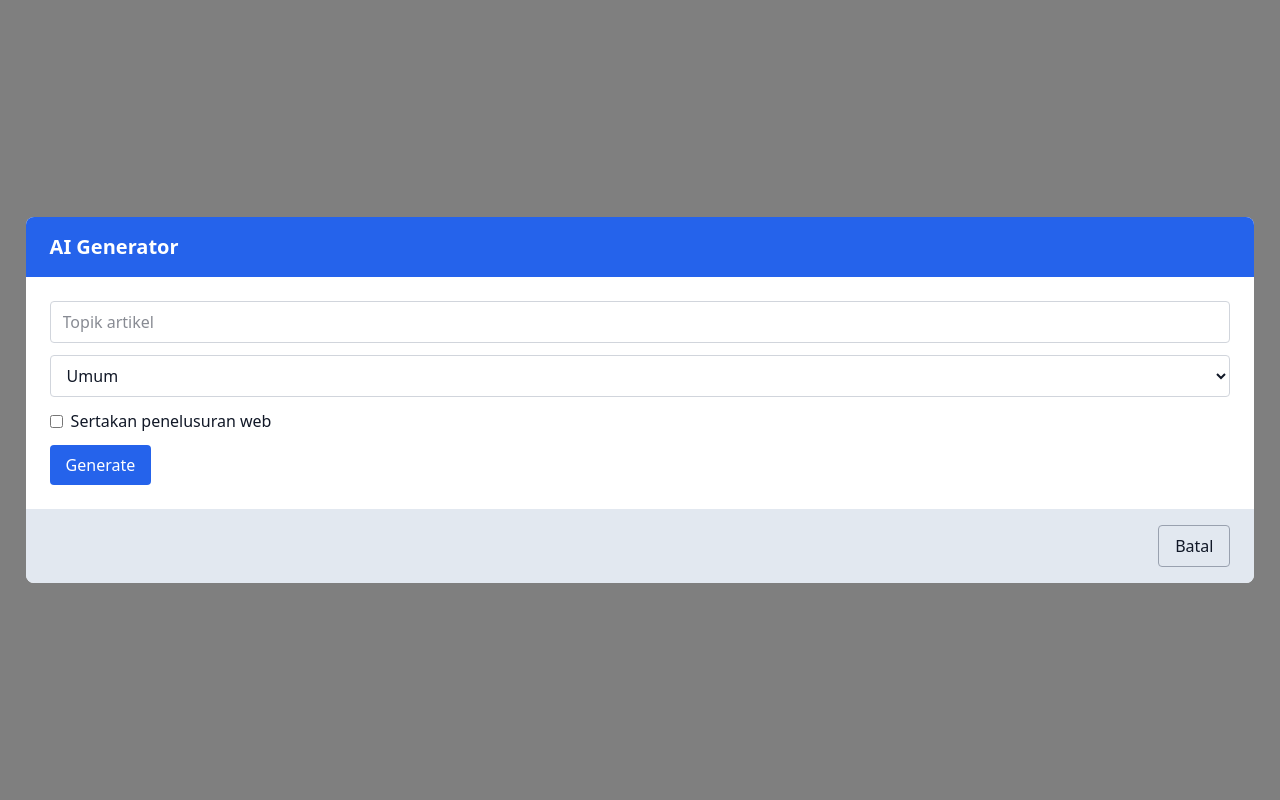
Test: AiPostGeneratorModal › hides sources when none
This screenshot has width=1280, height=800.
Type "AI" into the field labelled "Topik" at {"x": 640, "y": 322}, box [50,301,1230,343]
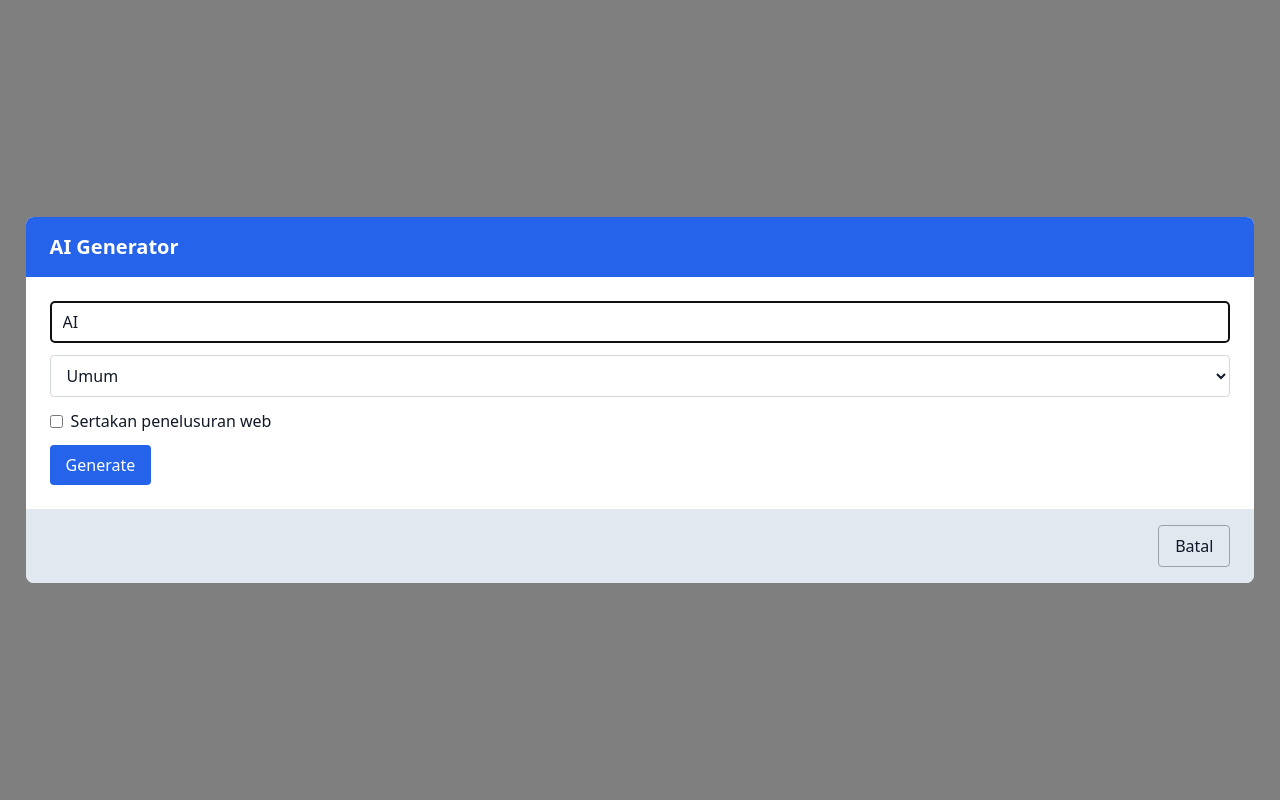
Click the button "Generate" at {"x": 100, "y": 465}, box [50,445,151,485]
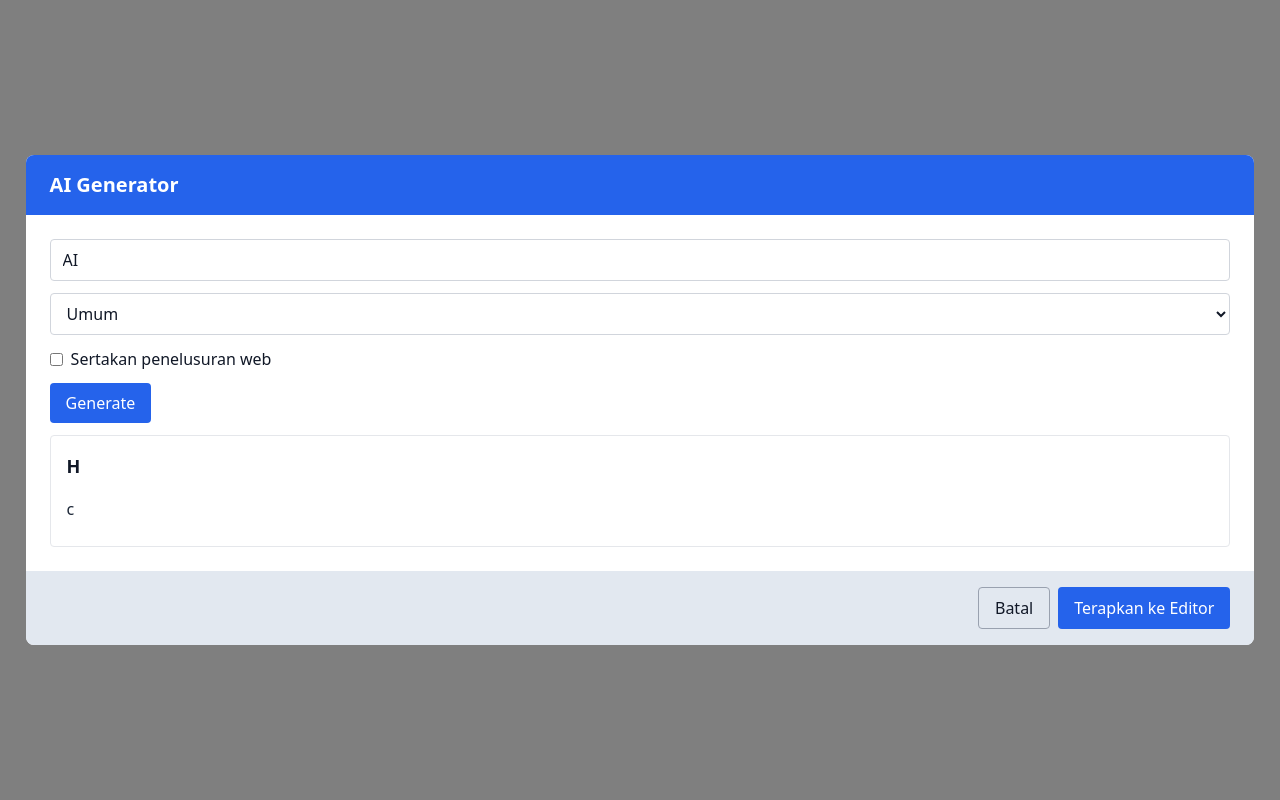
Expected: the heading "H" is shown, [67,454,80,478]
